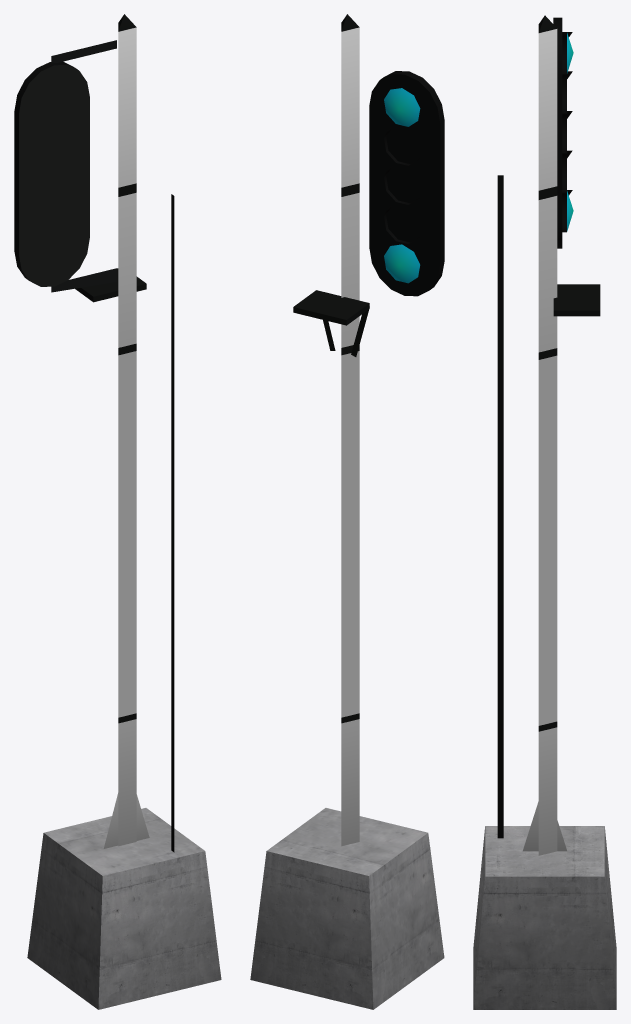
Rendered from AMB_SIGNAL_GG.glb.
3 renders of one model, left to right at view 1: azimuth 30°, elevation 25°; view 2: azimuth 150°, elevation 25°; view 3: azimuth 270°, elevation 25°, orthographic.
Parts seen in each view (by area): view 1: obj26; view 2: obj26; view 3: obj26.
Part boxes in pixels (x1=…): obj26: x1=14, y1=14, x2=221, y2=1009; obj26: x1=250, y1=14, x2=444, y2=1009; obj26: x1=473, y1=15, x2=616, y2=1009.
Bounding box in the file's own units: 3.05 × 17.08 × 2.3.
6 materials, 6 textured.
